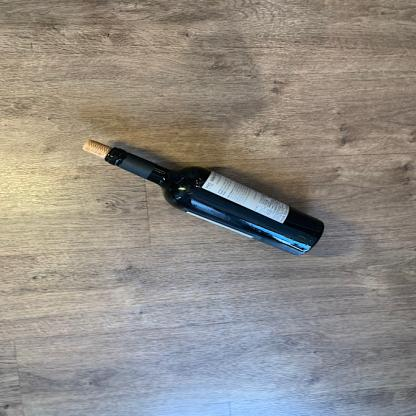trash: (102, 145, 329, 259)
